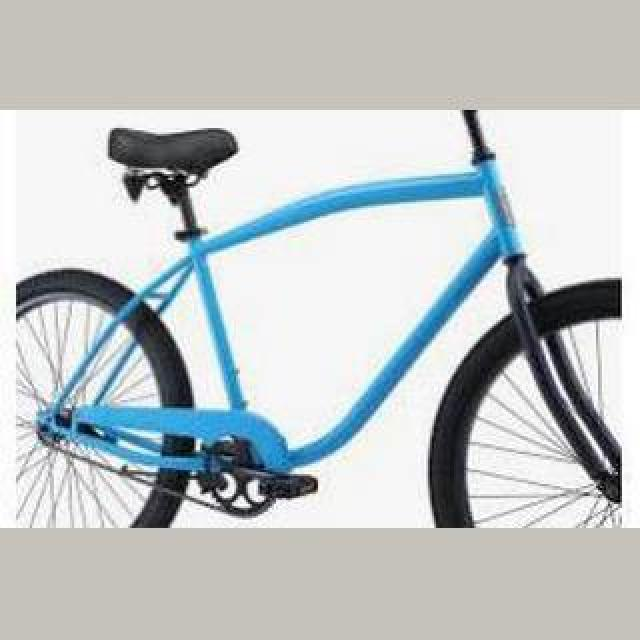Person: (10, 110, 624, 528)
